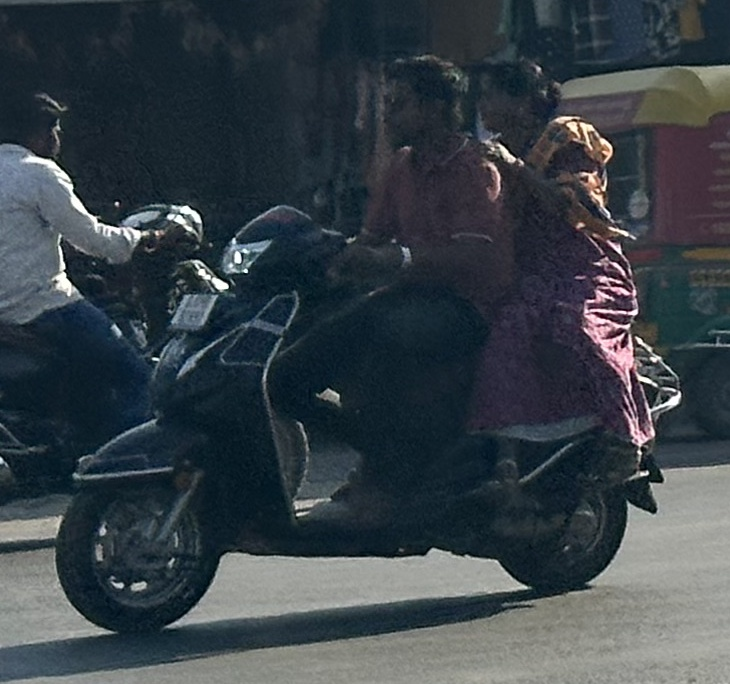BikeWithRider: (42, 42, 676, 643), (1, 79, 215, 543)
NoHelmet: (372, 47, 478, 158), (467, 48, 571, 158), (0, 81, 79, 169)
